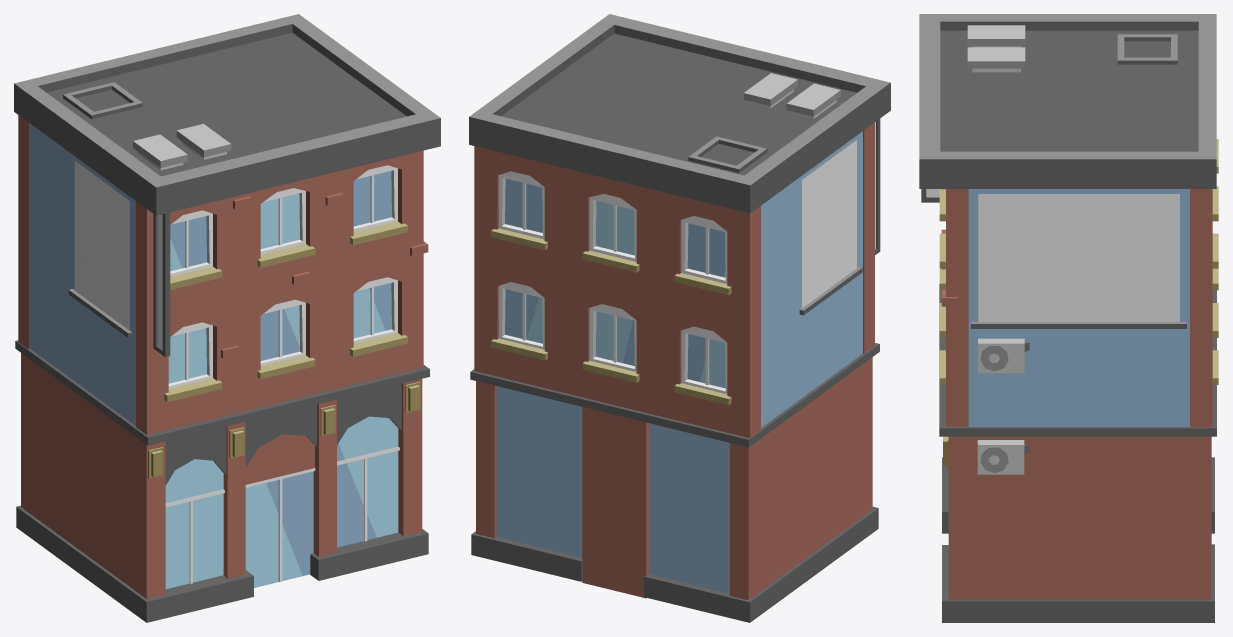
File: hotel_009.fbx
3 views of the same model, side by side, from view 1: azimuth 30°, elevation 25°; view 2: azimuth 150°, elevation 25°; view 3: azimuth 270°, elevation 25° (orthographic). The views are drawn at different scales.
Visible parts, largest first — view 1: hotel_009; view 2: hotel_009; view 3: hotel_009.
Boxes of the visible parts, <box> form: hotel_009: <box>14,14,440,622</box>; hotel_009: <box>469,14,890,622</box>; hotel_009: <box>919,14,1218,622</box>.
Bounding box in the file's own units: 610 × 899 × 519.
